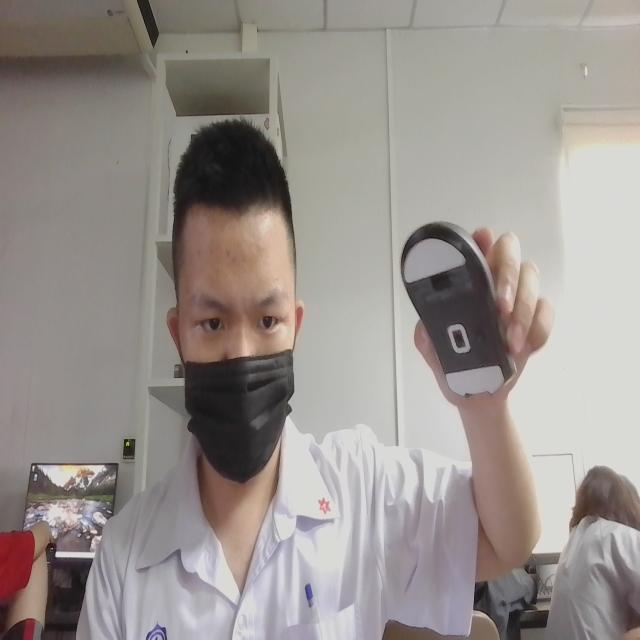mouse: (396, 213, 516, 404)
